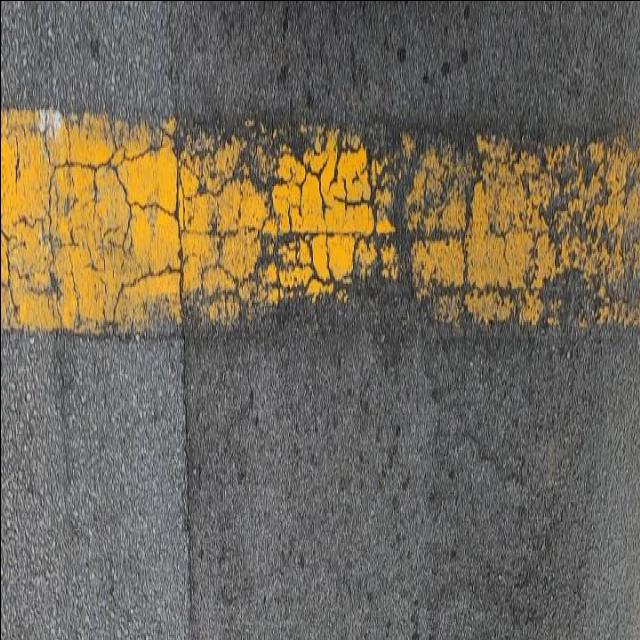cracks: (0, 70, 640, 358), (139, 0, 203, 640)
